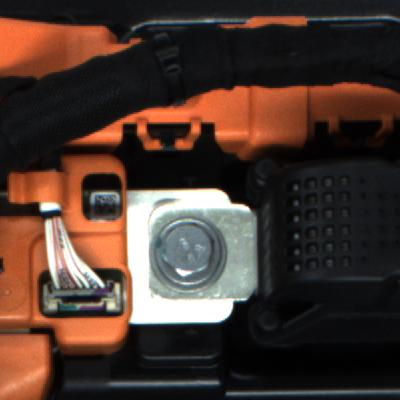nut_b: (149, 217, 232, 296)
